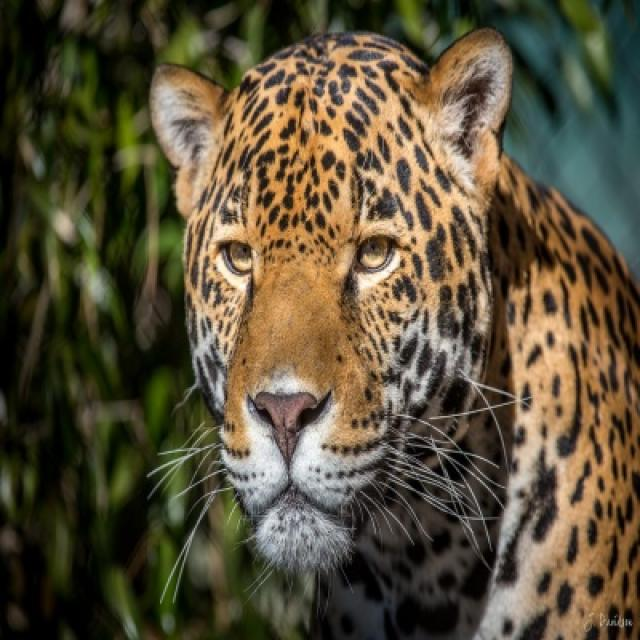Jaguar: (150, 27, 638, 638)
